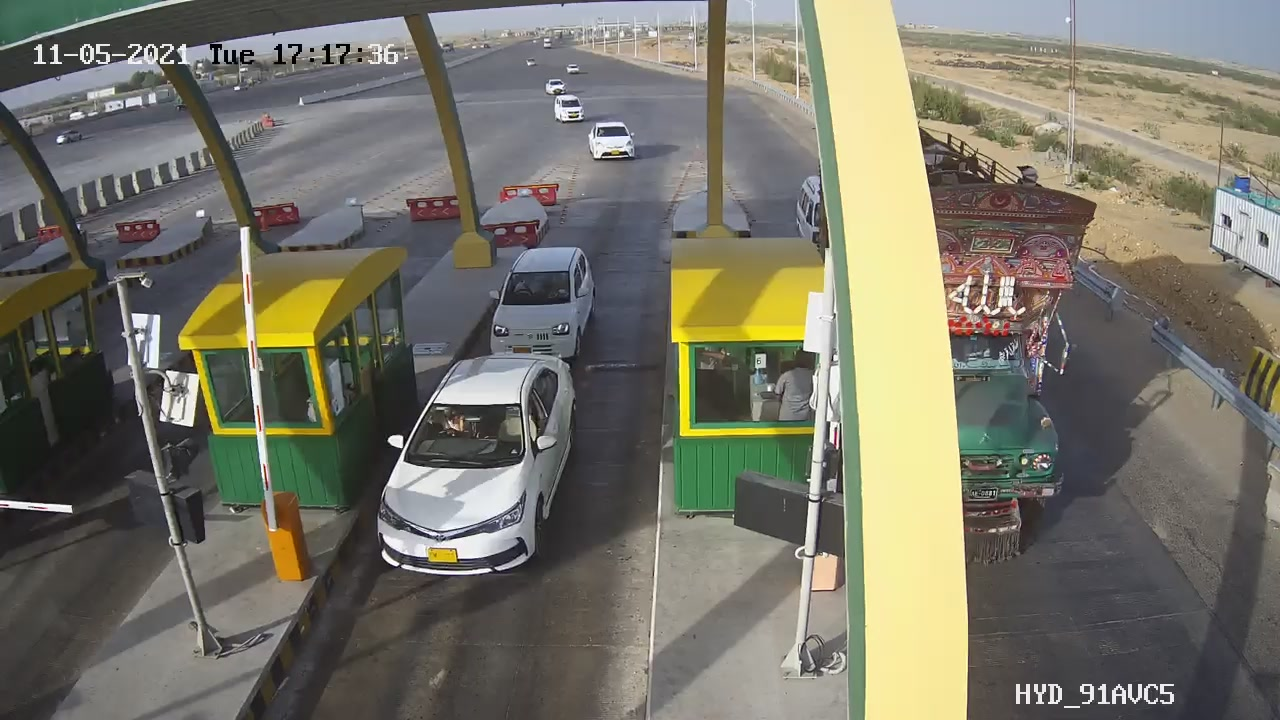F1: (361, 343, 603, 585), (473, 225, 611, 375)
